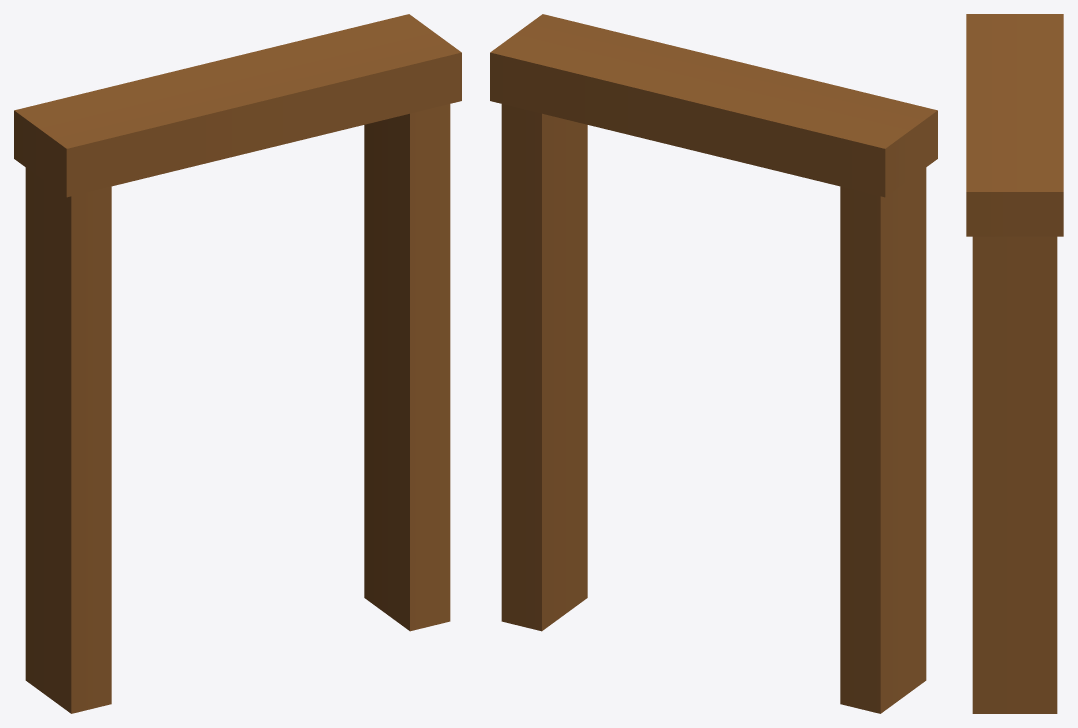
The model's file is Door_Wood_Frame_01.fbx.
3 views of the same model, side by side, from view 1: azimuth 30°, elevation 25°; view 2: azimuth 150°, elevation 25°; view 3: azimuth 270°, elevation 25° (orthographic). The views are drawn at different scales.
Parts seen in each view (by area): view 1: Door_Wood_Frame_01.002, Door_Wood_Frame_01.001, Door_Wood_Frame_01; view 2: Door_Wood_Frame_01.002, Door_Wood_Frame_01.001, Door_Wood_Frame_01; view 3: Door_Wood_Frame_01.001, Door_Wood_Frame_01.
Part boxes in pixels (bbox=[...]): Door_Wood_Frame_01.002: bbox=[25, 167, 111, 713]; Door_Wood_Frame_01.001: bbox=[364, 104, 450, 631]; Door_Wood_Frame_01: bbox=[14, 14, 461, 197]; Door_Wood_Frame_01.002: bbox=[840, 167, 926, 713]; Door_Wood_Frame_01.001: bbox=[501, 104, 587, 631]; Door_Wood_Frame_01: bbox=[490, 14, 937, 197]; Door_Wood_Frame_01.001: bbox=[972, 236, 1057, 713]; Door_Wood_Frame_01: bbox=[966, 14, 1063, 236].
Bounding box in the file's own units: 1.96 × 2.7 × 0.4522.
